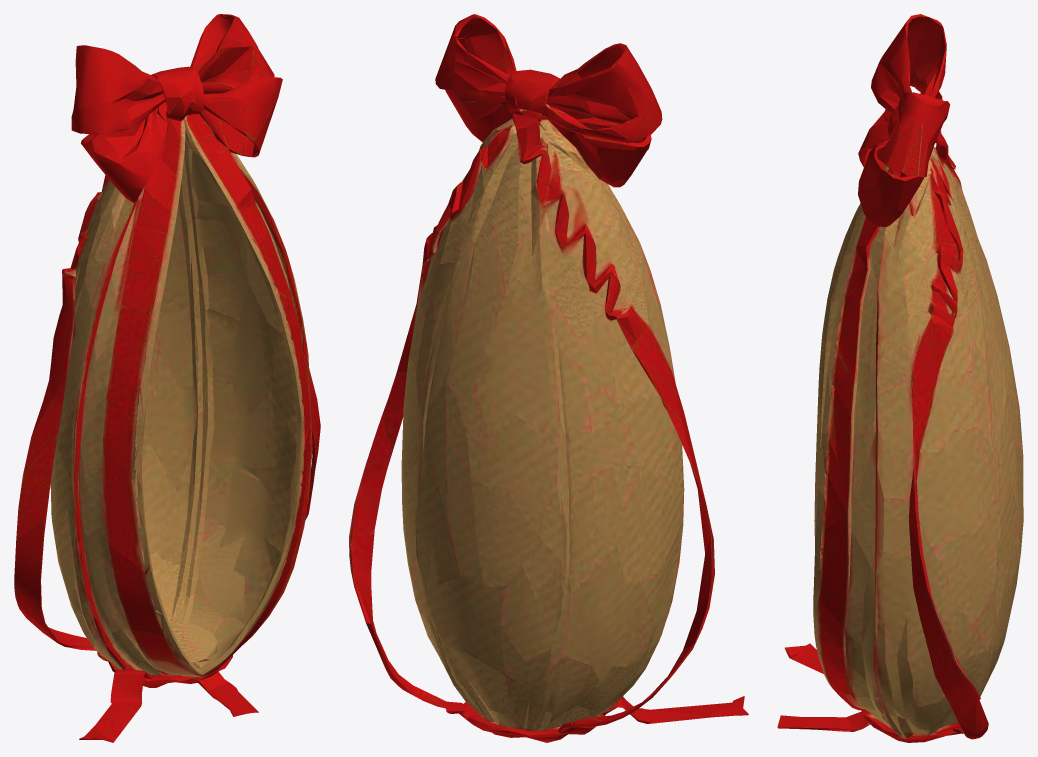
File: cocoon.glb
3 renders of one model, left to right at view 1: azimuth 30°, elevation 25°; view 2: azimuth 150°, elevation 25°; view 3: azimuth 270°, elevation 25°, orthographic. The views are drawn at different scales.
Bounding box in the file's own units: 0.9855 × 1.9 × 0.6401.
1 material, 1 textured.
